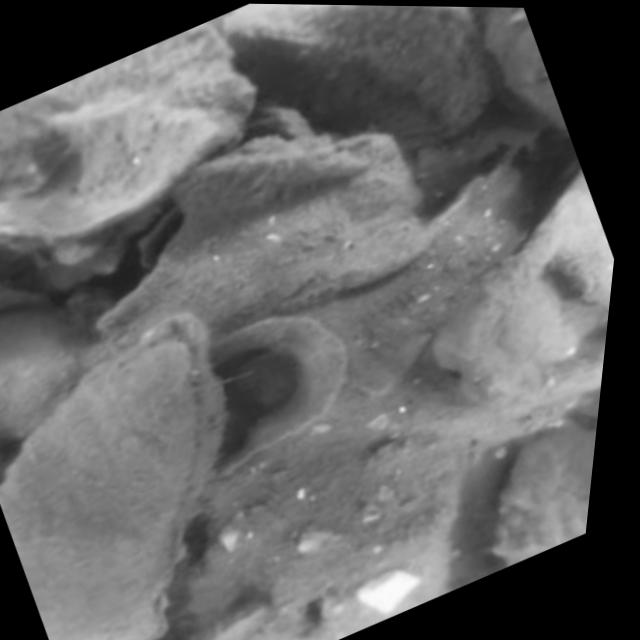Oyster-Closed: (0, 315, 226, 640)
Oyster-Indeterminate: (93, 134, 428, 348), (186, 433, 477, 640), (220, 4, 486, 148), (194, 313, 350, 485), (166, 144, 373, 225), (494, 424, 597, 557), (0, 307, 81, 434), (484, 7, 564, 124), (553, 200, 613, 307)
